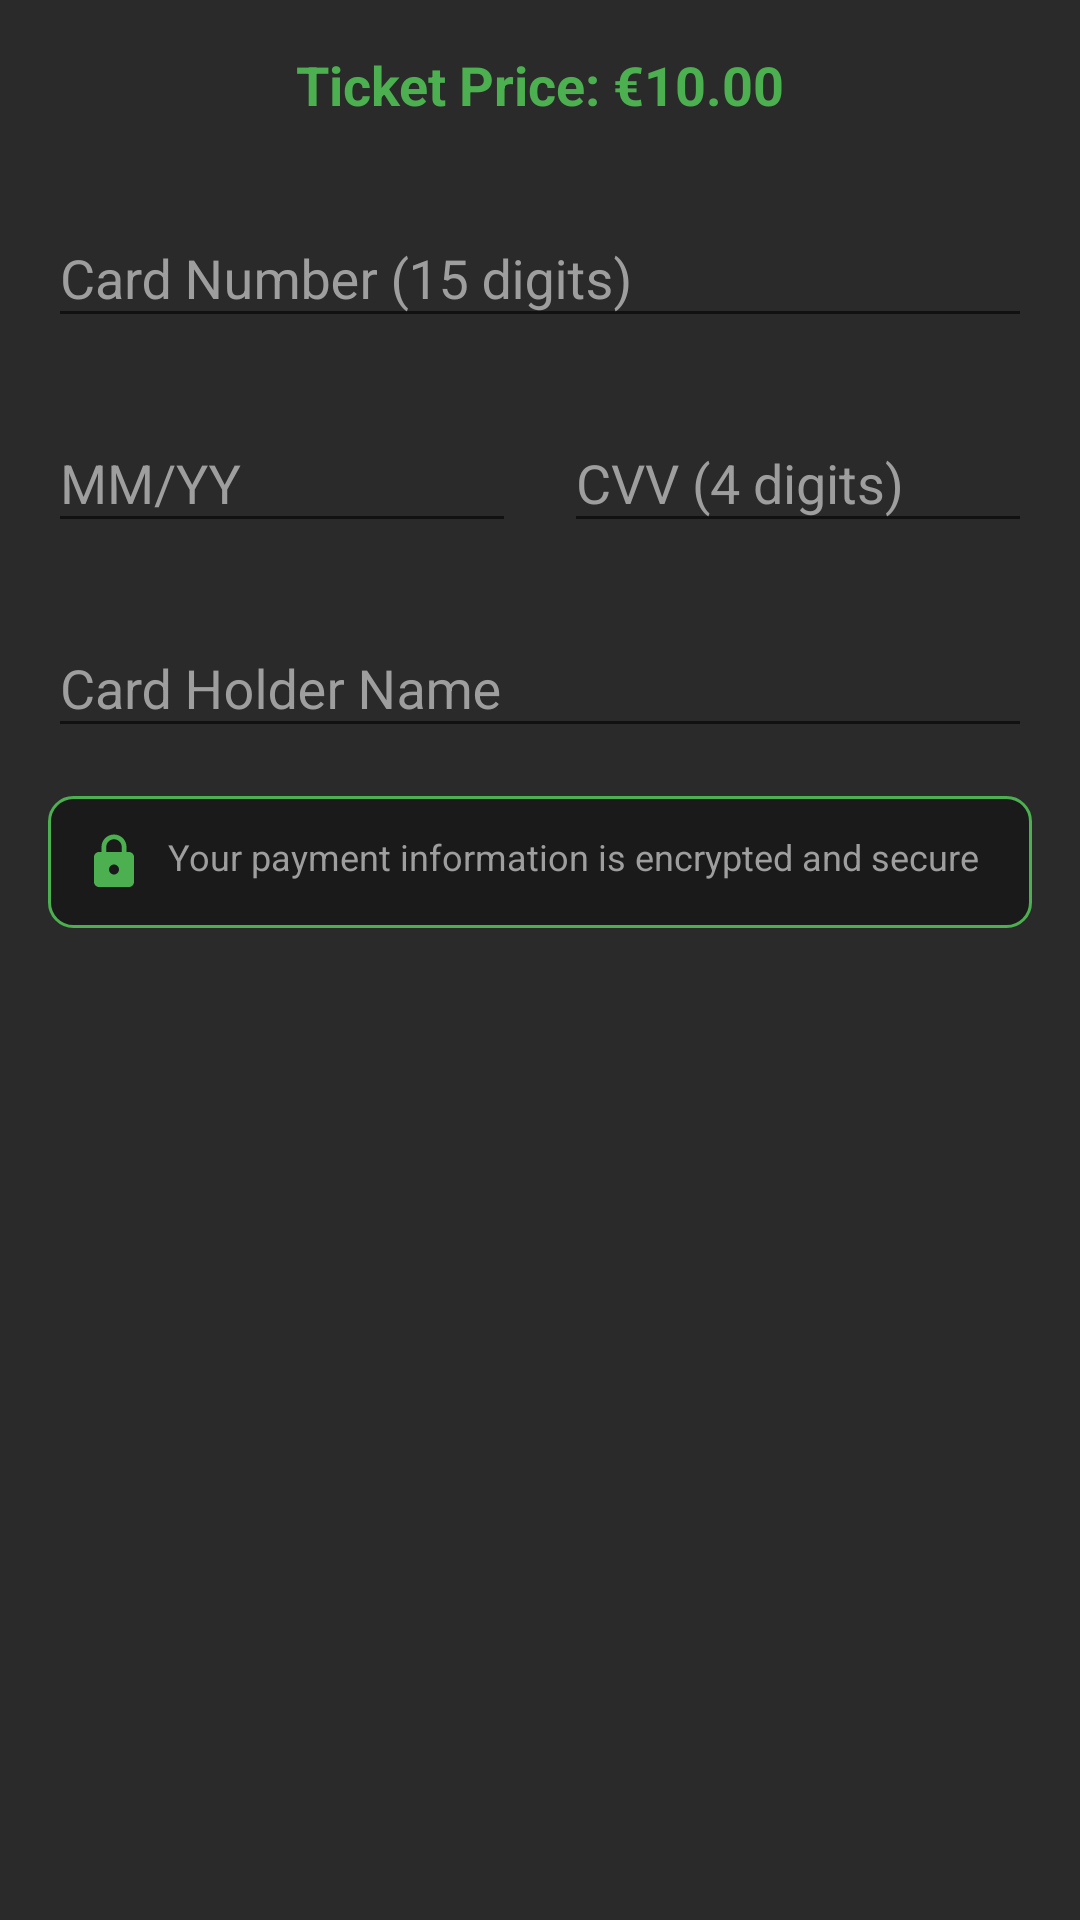

Named icons in this screenshot (1080 x 1920) and their centers, point (x, y):
lock: point (114, 860)
